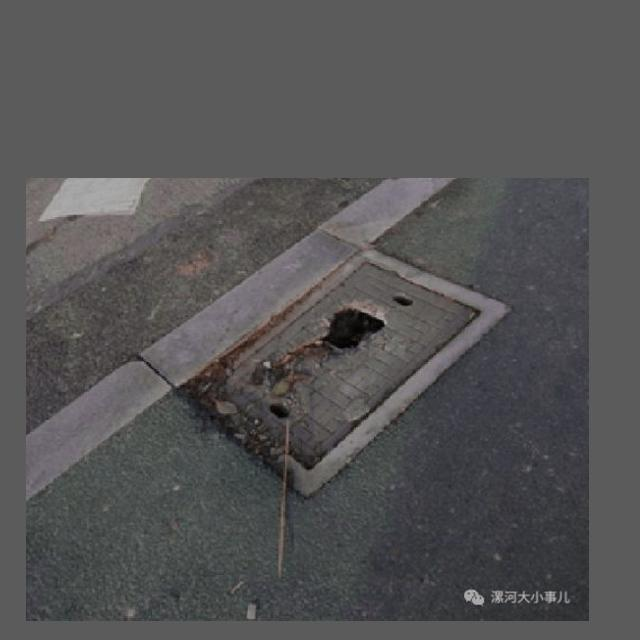broke: (172, 230, 531, 496)
